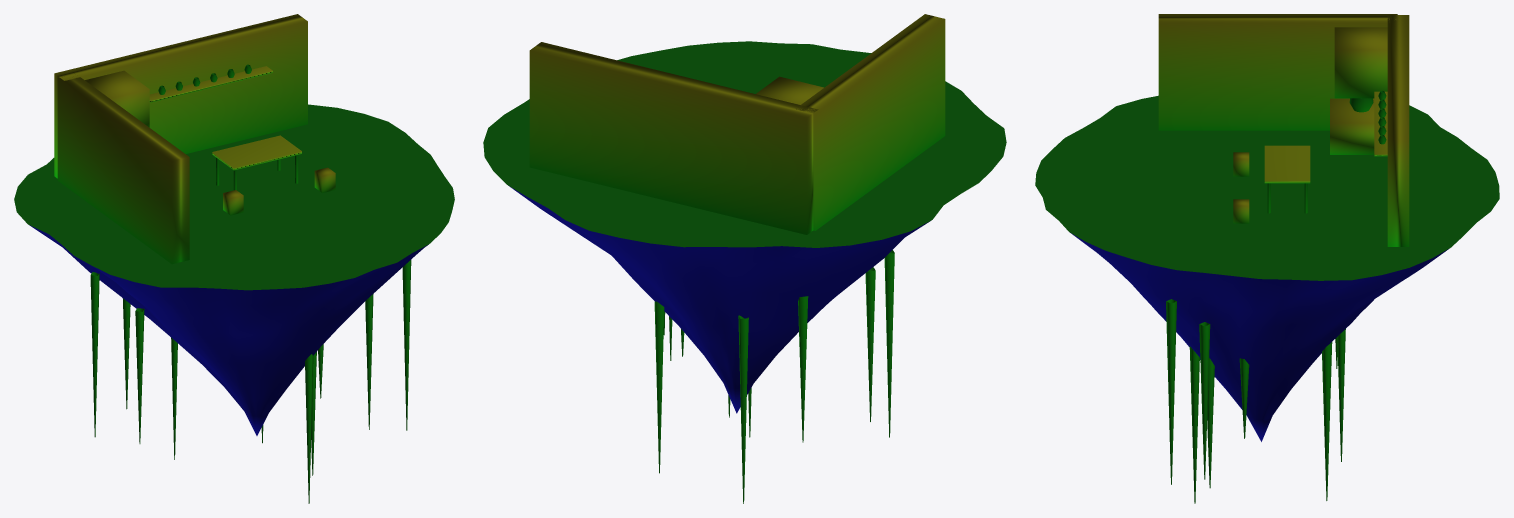
The model's file is memory_kitchen.glb.
3 renders of one model, left to right at view 1: azimuth 30°, elevation 25°; view 2: azimuth 150°, elevation 25°; view 3: azimuth 270°, elevation 25°, orthographic. The views are drawn at different scales.
Parts seen in each view (by area): view 1: memory_kitchen; view 2: memory_kitchen; view 3: memory_kitchen.
Part boxes in pixels (x1,y1,x2,y2): memory_kitchen: (14,14,454,503); memory_kitchen: (483,14,1006,503); memory_kitchen: (1035,14,1499,503).
Size of what is drawn, in the model's own units: 9.85 by 9.8 by 10.04.
